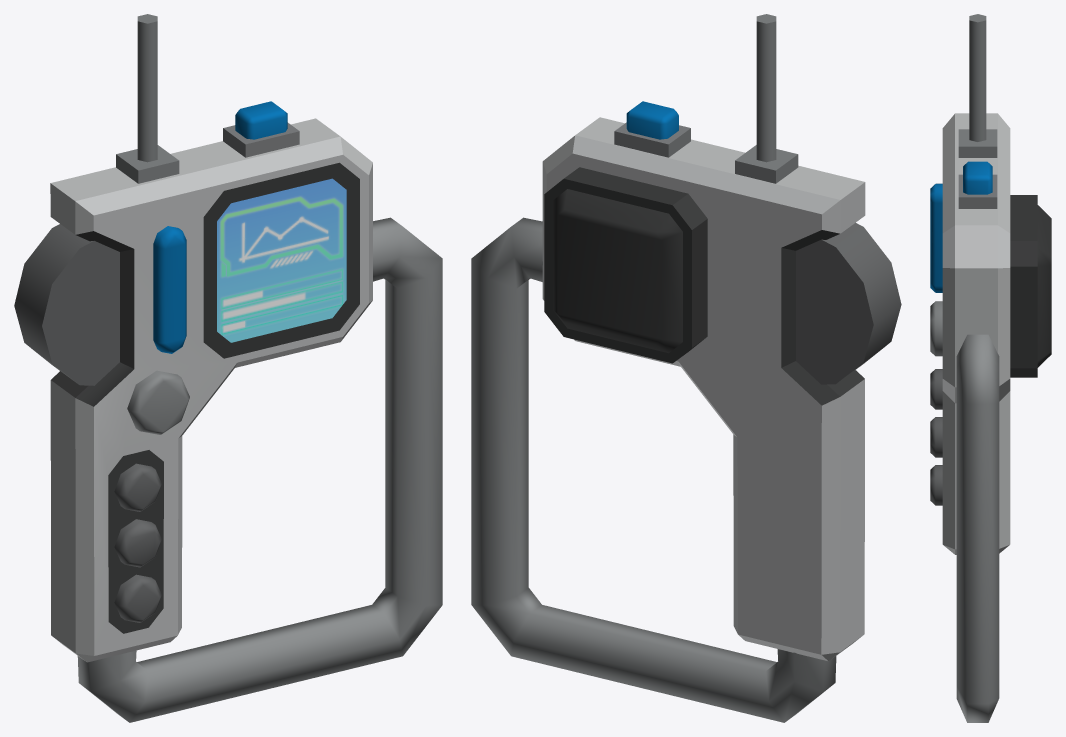
Rendered from Analyzer_001.fbx.
3 views of the same model, side by side, from view 1: azimuth 30°, elevation 25°; view 2: azimuth 150°, elevation 25°; view 3: azimuth 270°, elevation 25° (orthographic). The views are drawn at different scales.
Parts seen in each view (by area): view 1: Analyzer_001; view 2: Analyzer_001; view 3: Analyzer_001.
Part boxes in pixels (x1=…): Analyzer_001: x1=14, y1=14, x2=442, y2=722; Analyzer_001: x1=471, y1=14, x2=901, y2=722; Analyzer_001: x1=930, y1=14, x2=1051, y2=722.
Size of the model in its own units: 28.78 by 8.56 by 46.61.
